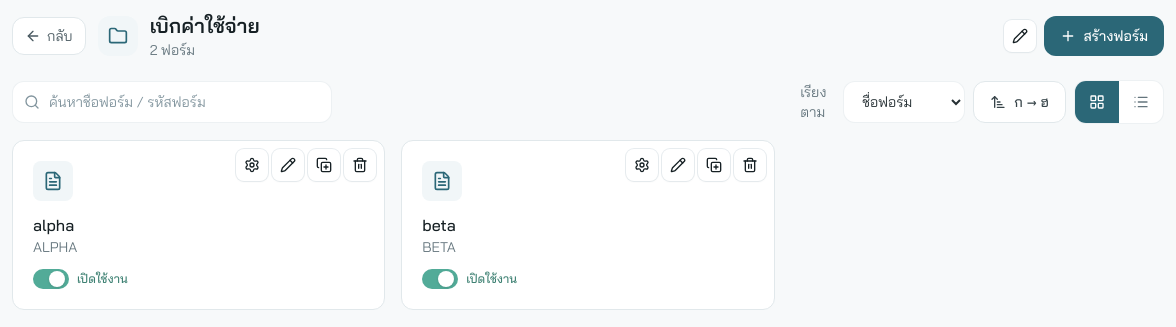
Test: GroupPage view switch › starts on cards and switches to a list, keeping every form
Expected: the text "alpha" is shown, [33,215,74,235]
Click the button named "มุมมองรายการ".
click(1141, 102)  # box [1119,81,1163,123]
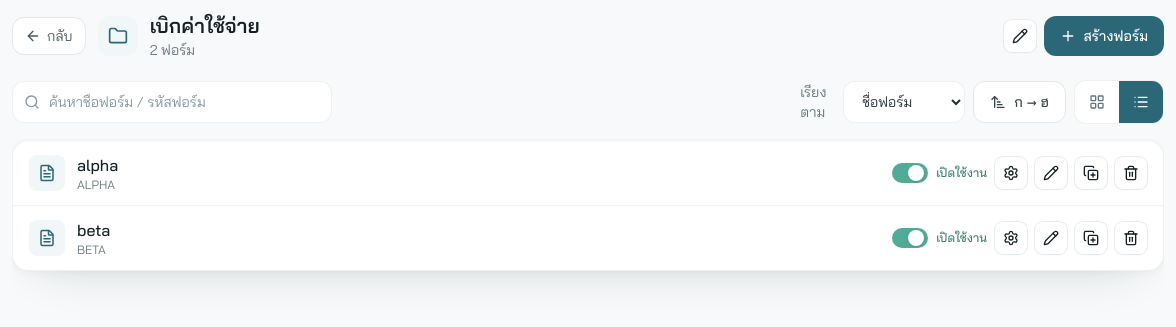
Expected: the text "beta" is shown, [77,218,110,242]
Now the number of list items is 2, box [13,141,1163,205]; [13,205,1163,270]
Click the button named "มุมมองการ์ด".
click(1097, 102)  # box [1075,81,1119,123]
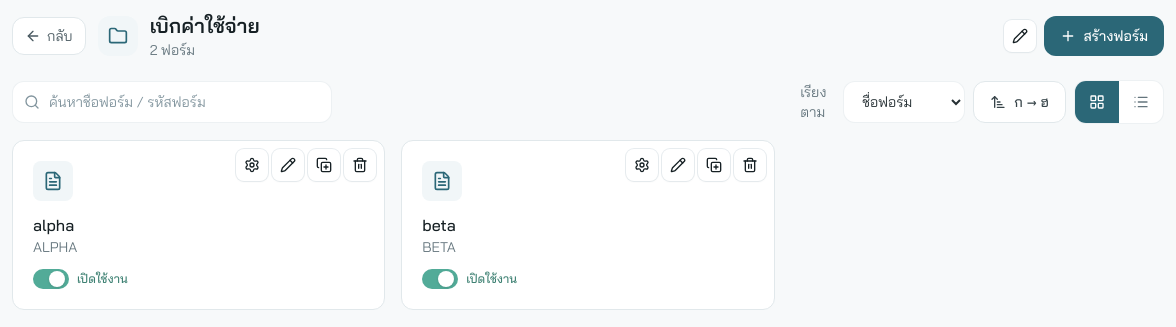
Now no list items are shown
